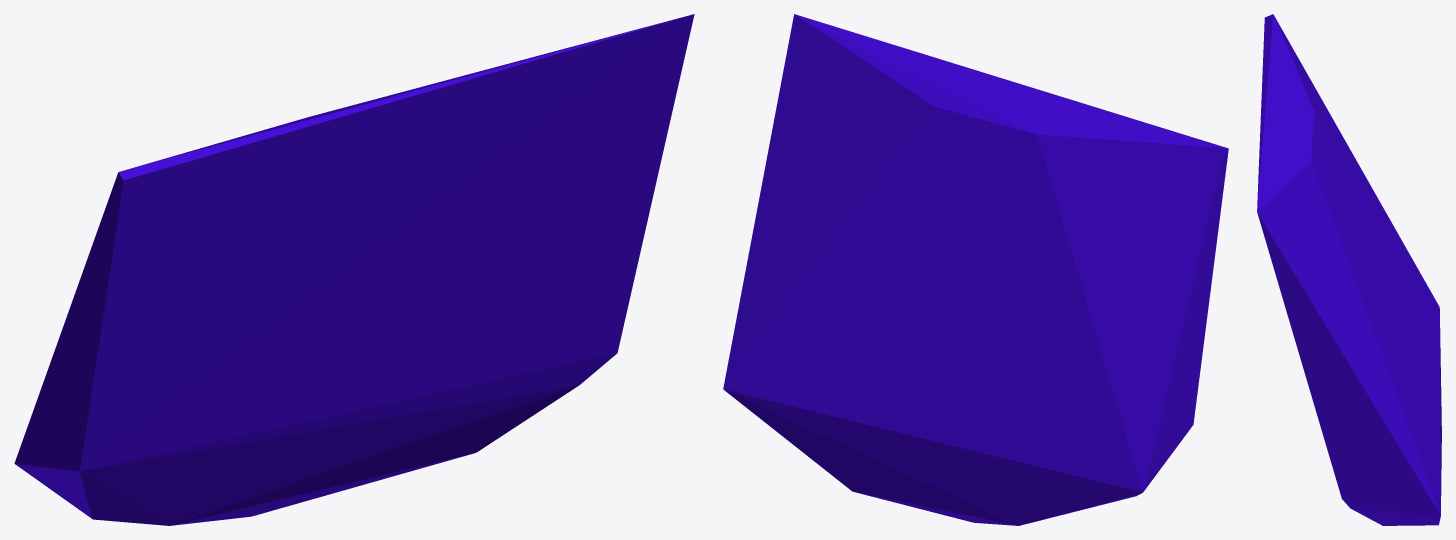
File: arm-L1-mirror_convex_piece_006.obj
3 views of the same model, side by side, from view 1: azimuth 30°, elevation 25°; view 2: azimuth 150°, elevation 25°; view 3: azimuth 270°, elevation 25° (orthographic). The views are drawn at different scales.
Size of the model in its own units: 0.0474 by 0.0398 by 0.0169.
